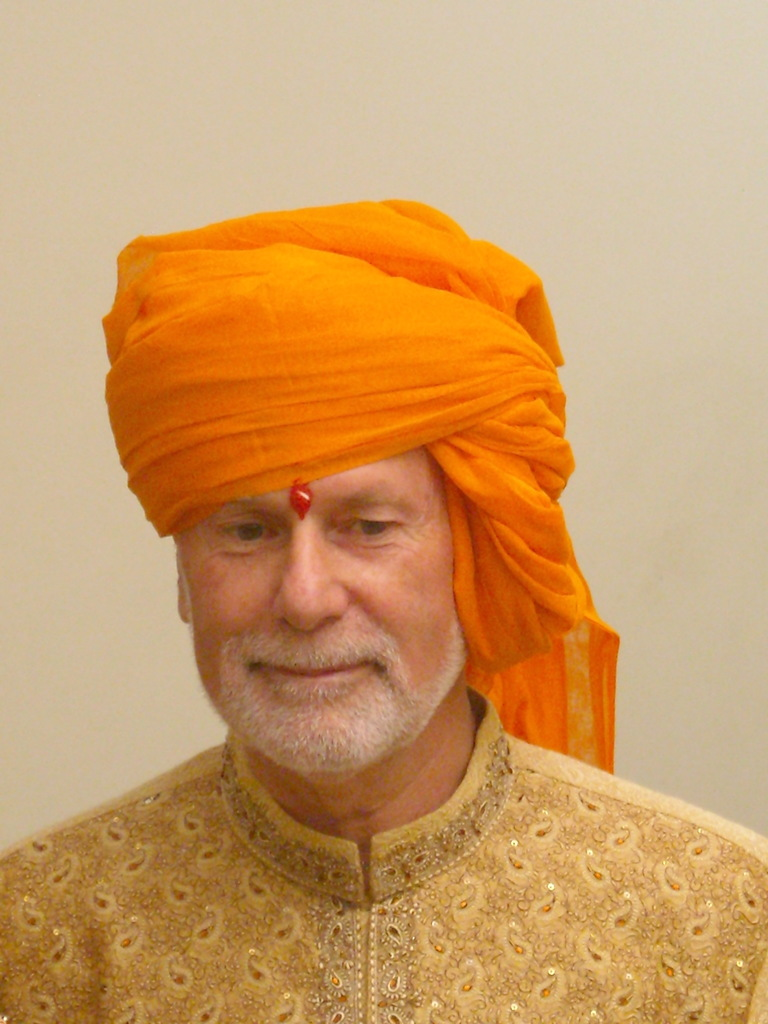Person: (1, 198, 767, 1024)
